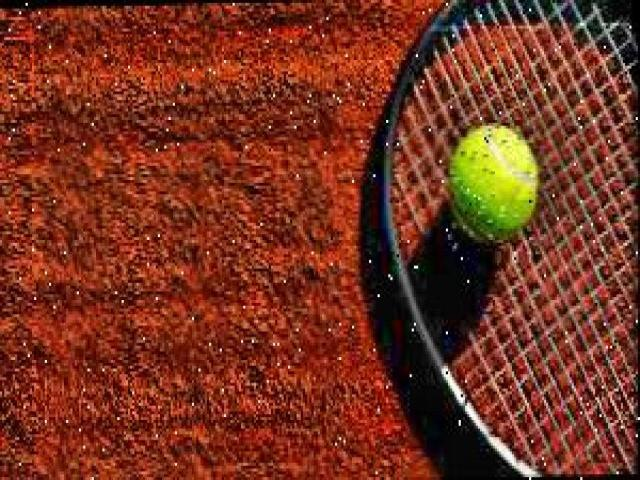tennis-ball: (448, 126, 539, 243)
